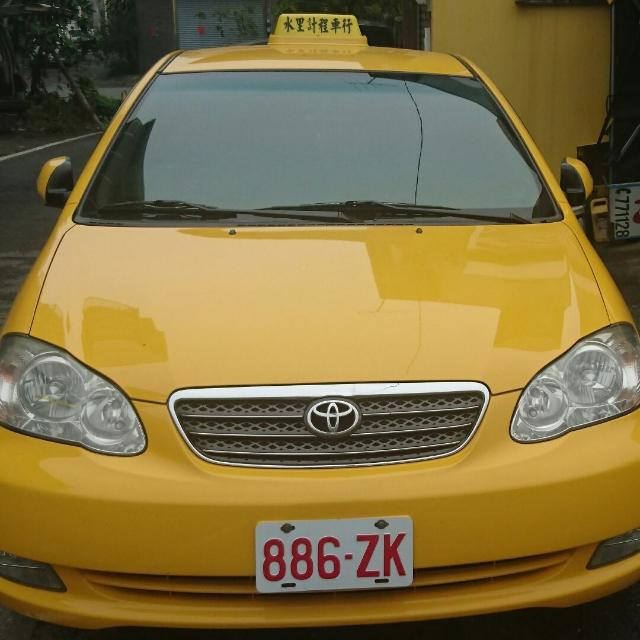plate: (255, 515, 413, 594)
